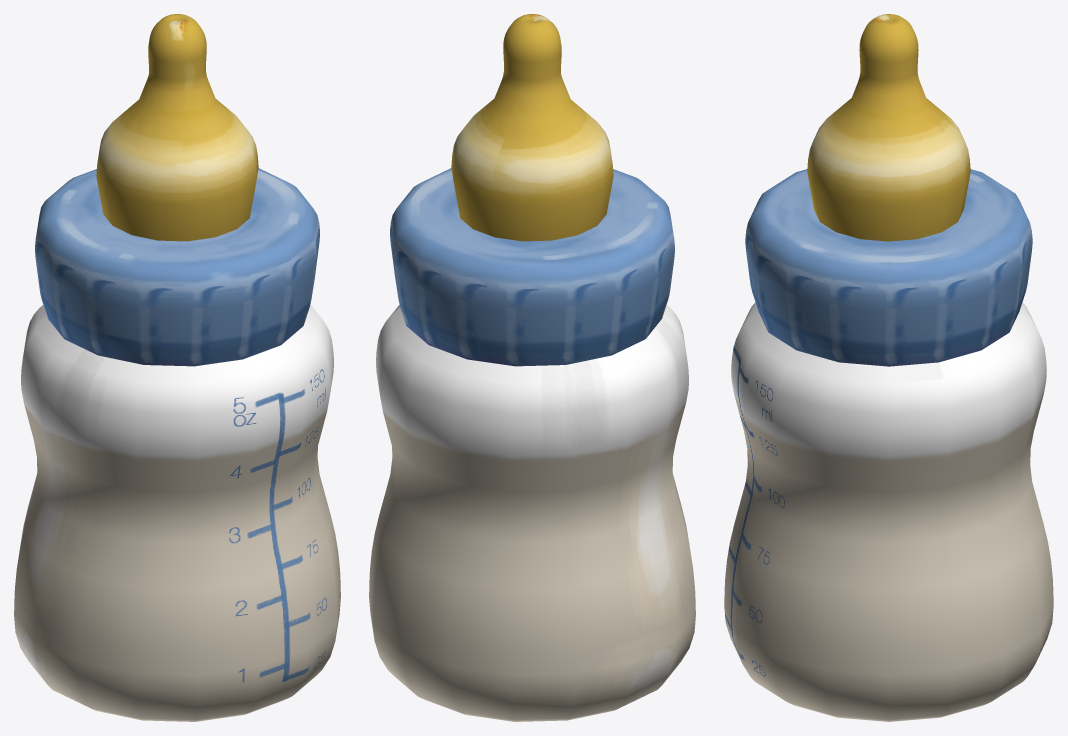
The model's file is item1 - milk.fbx.
3 renders of one model, left to right at view 1: azimuth 30°, elevation 25°; view 2: azimuth 150°, elevation 25°; view 3: azimuth 270°, elevation 25°, orthographic.
Parts seen in each view (by area): view 1: milkbottle:Line001, milkbottle:transform1, milkbottle:transform2; view 2: milkbottle:Line001, milkbottle:transform1, milkbottle:transform2; view 3: milkbottle:Line001, milkbottle:transform1, milkbottle:transform2.
Part boxes in pixels (box(x1,y1,x2,y2)): milkbottle:Line001: box(14, 305, 340, 721); milkbottle:transform1: box(35, 168, 319, 366); milkbottle:transform2: box(96, 14, 258, 241); milkbottle:Line001: box(369, 305, 695, 721); milkbottle:transform1: box(390, 168, 674, 366); milkbottle:transform2: box(451, 14, 613, 241); milkbottle:Line001: box(724, 302, 1053, 721); milkbottle:transform1: box(745, 169, 1032, 366); milkbottle:transform2: box(807, 14, 970, 241).
Bounding box in the file's own units: 8.42 × 18.27 × 8.42.
1 material, 1 textured.
